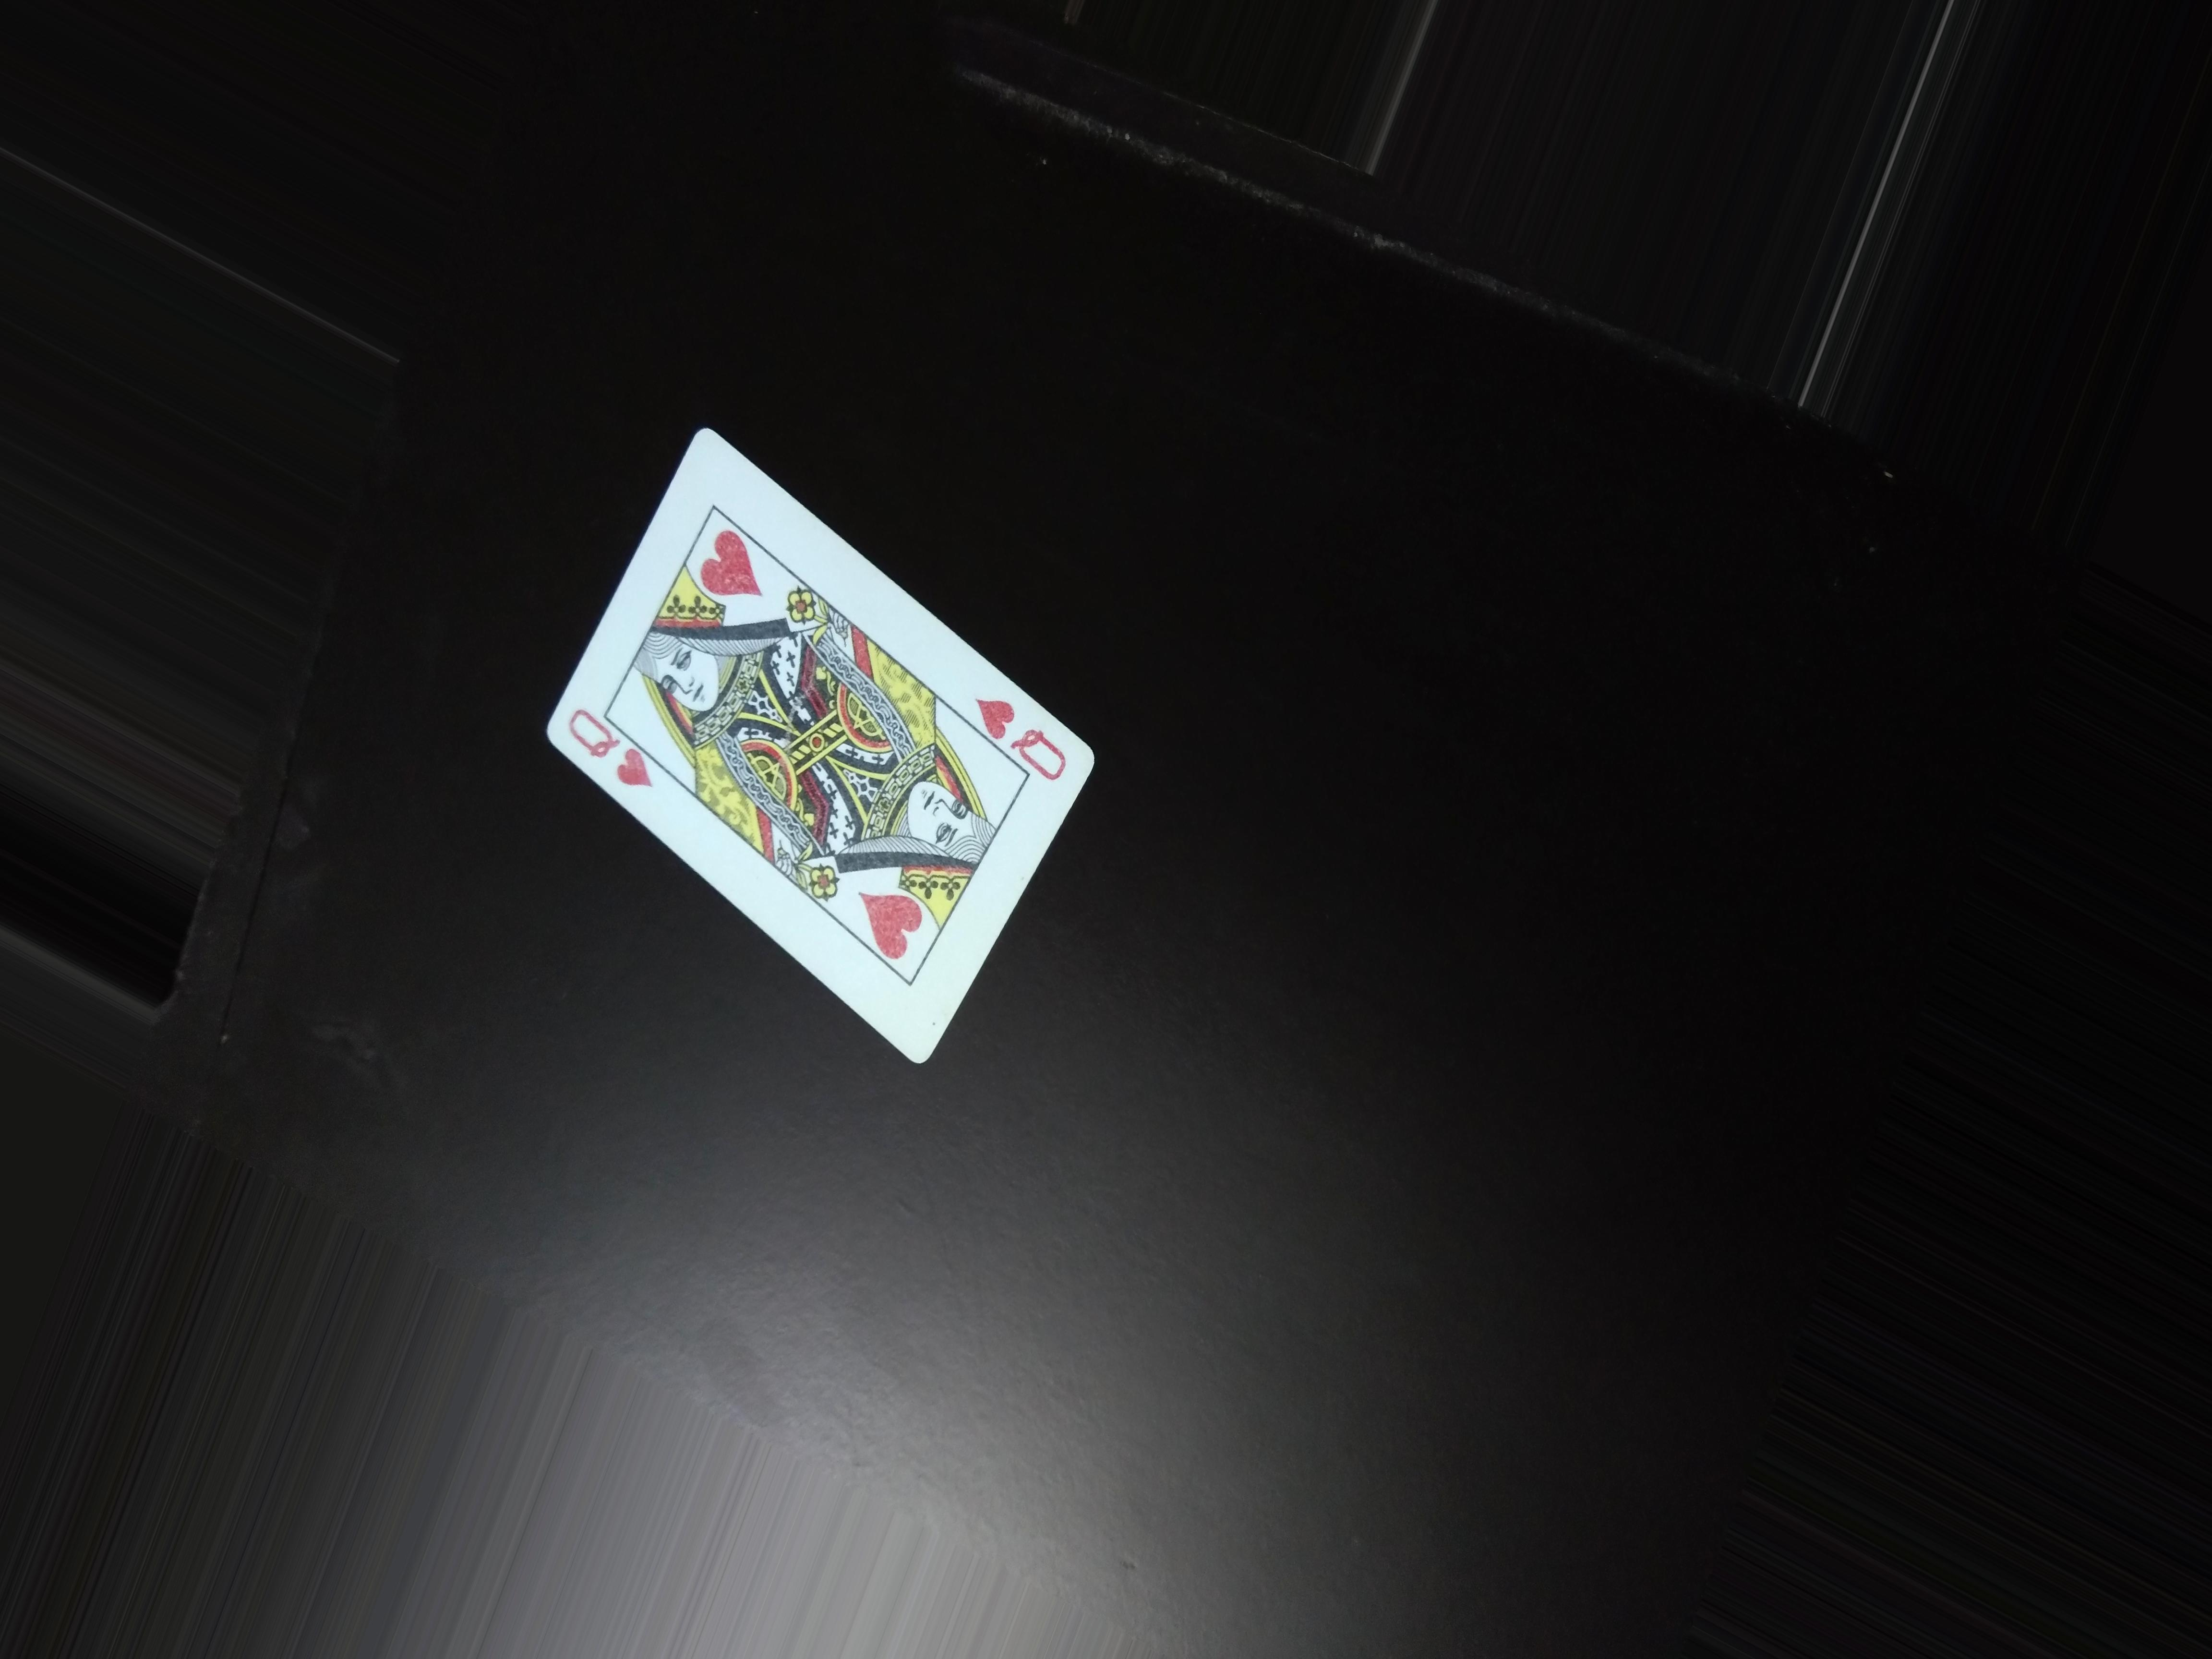QH: (968, 685, 1071, 793)
